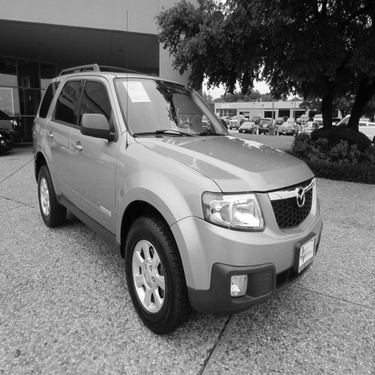car: (17, 58, 324, 339), (335, 110, 374, 147), (1, 102, 21, 154), (278, 118, 298, 138), (258, 115, 276, 135), (304, 118, 319, 140), (215, 110, 230, 127), (275, 112, 289, 129), (242, 118, 255, 133), (229, 115, 243, 127), (315, 111, 324, 127), (252, 113, 262, 124), (299, 114, 308, 126)
